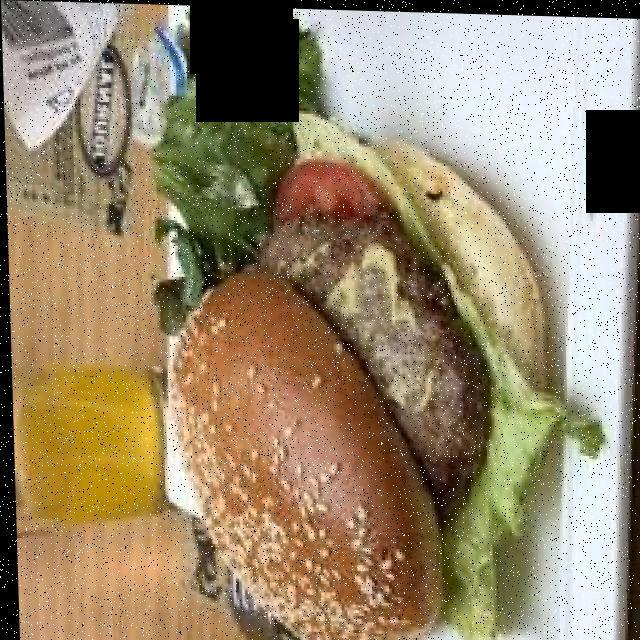hamburger: (163, 72, 572, 639)
salad: (166, 15, 589, 640)
tomato: (269, 156, 388, 221)
